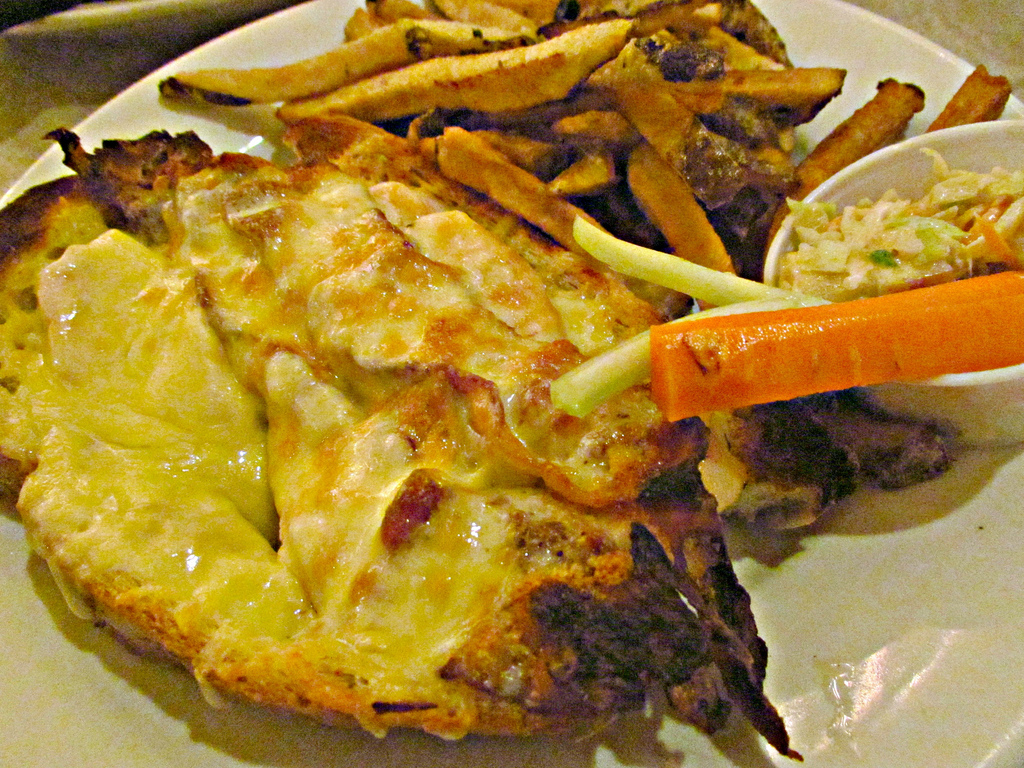fried egg: (19, 150, 682, 703)
